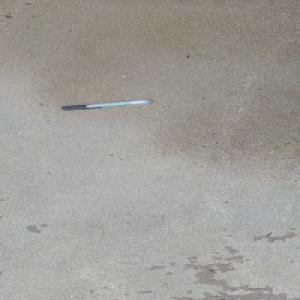Pen: (59, 97, 153, 111)
